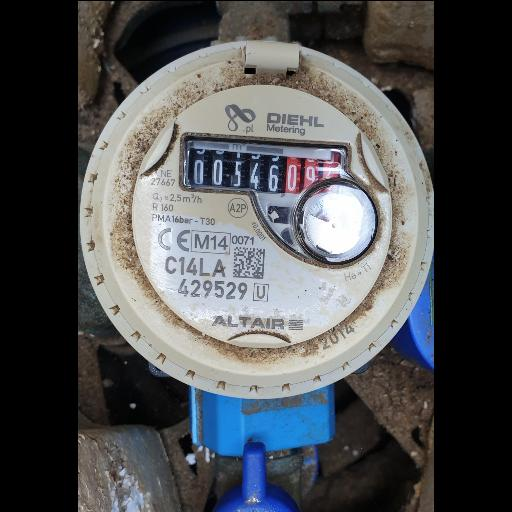0: (188, 148, 212, 185), (210, 150, 231, 187), (284, 155, 304, 193)
4: (247, 153, 268, 191)
5: (228, 151, 248, 188)
6: (265, 154, 285, 193)
9: (304, 157, 325, 191)
border_water_meter_number: (181, 135, 349, 198)
